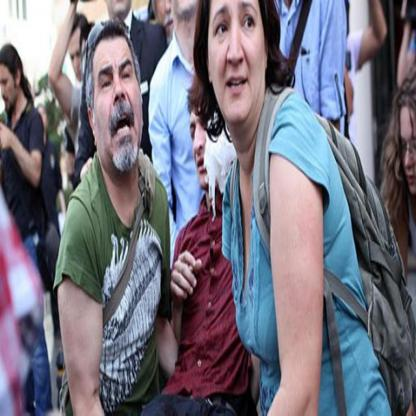face: (209, 1, 266, 123), (94, 39, 142, 168), (192, 109, 218, 188), (400, 110, 416, 197), (157, 3, 180, 44), (70, 29, 86, 84), (1, 66, 17, 108), (39, 109, 49, 133)
